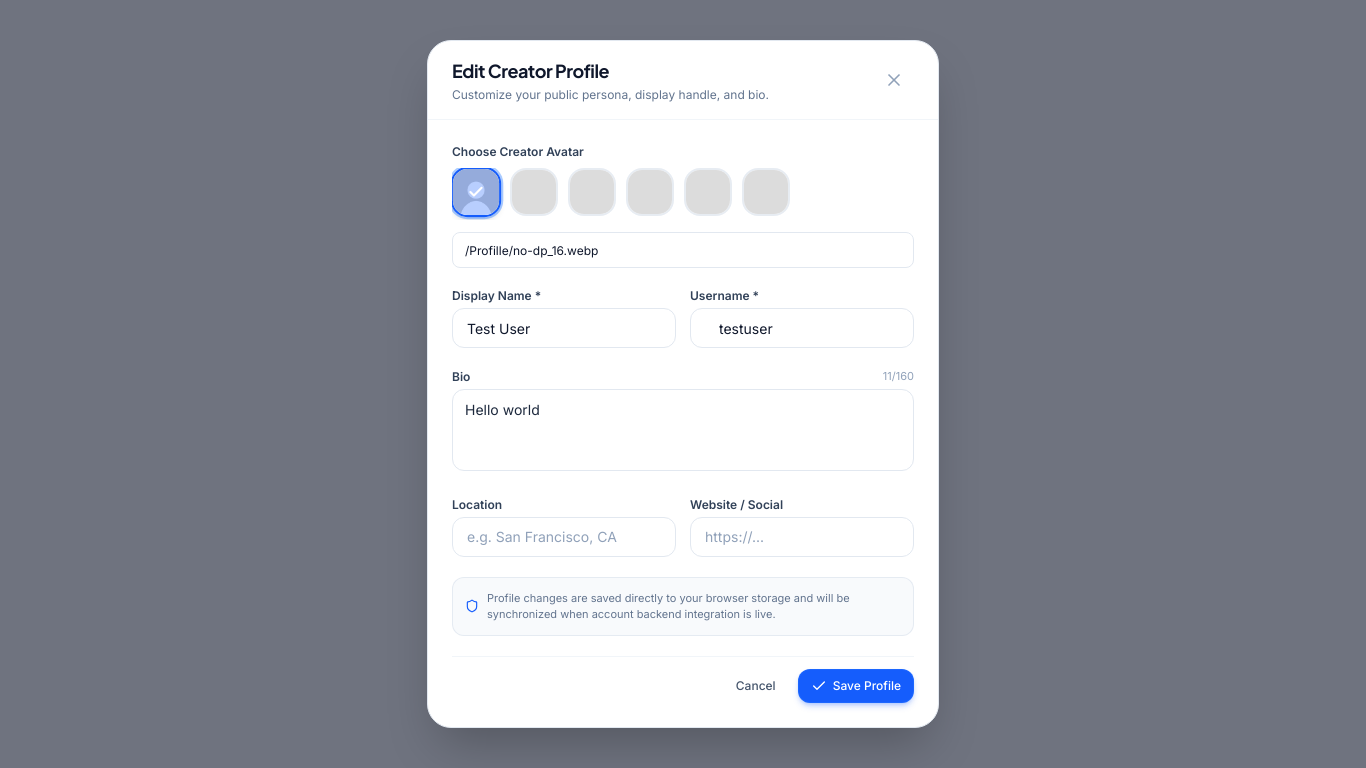
Scenario: EditProfileModal Validation › rejects invalid username with symbols
This screenshot has width=1366, height=768.
Step 1. Replace the text in the field labelled "Username *" with "invalid user!" → (802, 328), box 690,308 -> 914,348
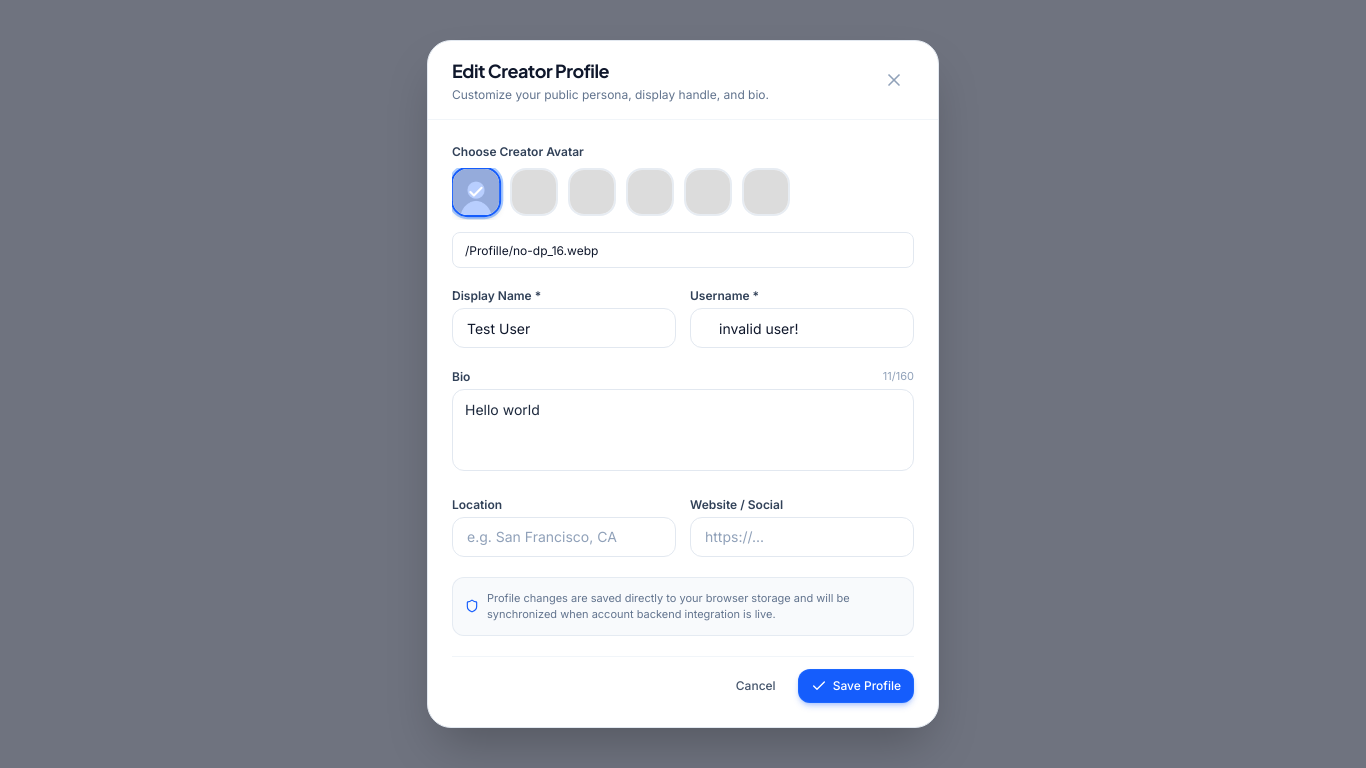
Step 2. Click the button "Save Profile" → (856, 686), box 798,669 -> 914,703
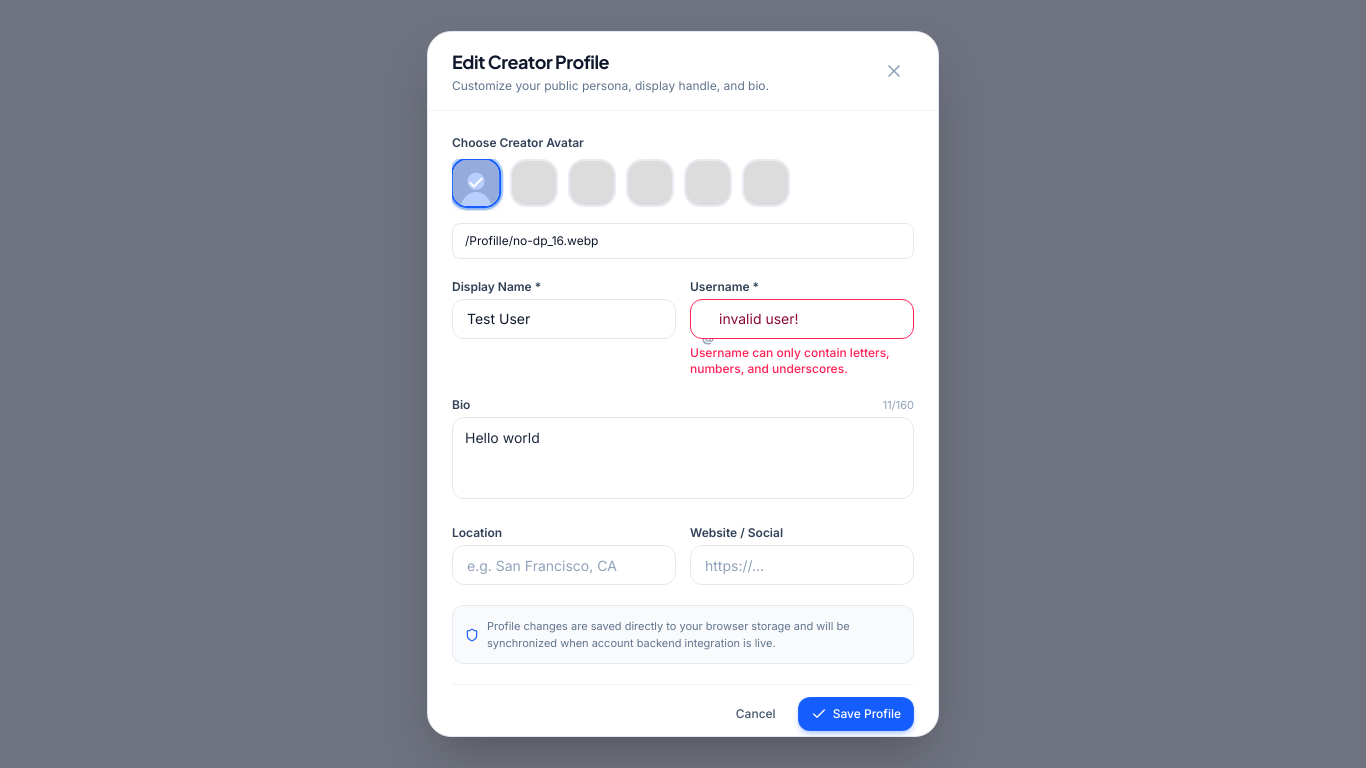
Check: the text "Username can only contain letters, numbers, and underscores." is shown, box 690,345 -> 914,377
